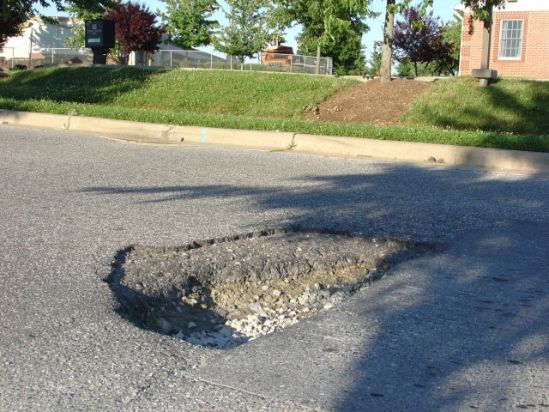pothole: (103, 226, 439, 352)
